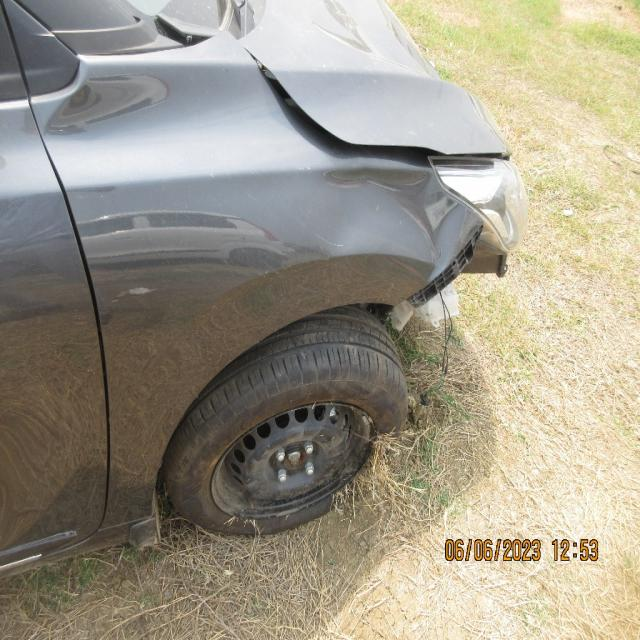damage: (240, 68, 506, 179), (377, 193, 508, 339)
